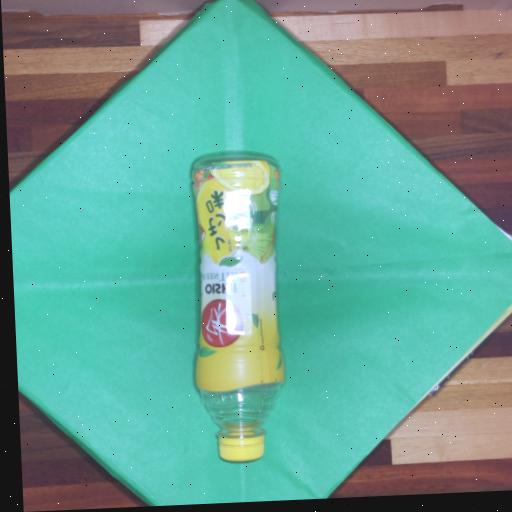bottle: (187, 153, 286, 463)
